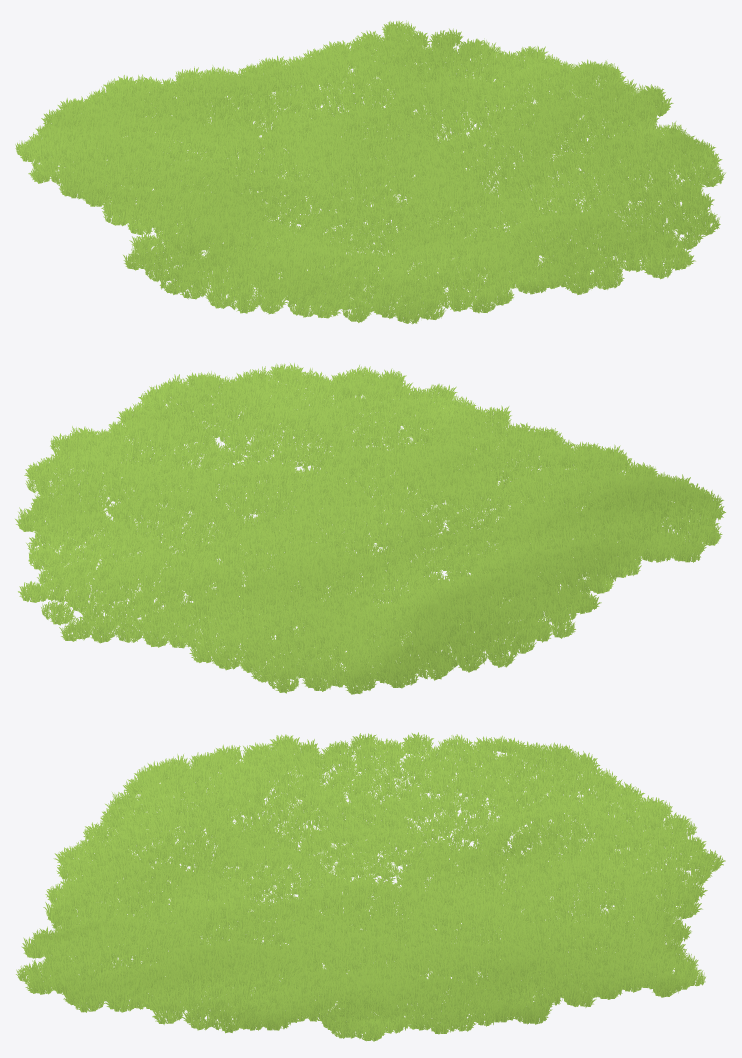
The model's file is SM_Env_Grass_Large_04.glb.
3 renders of one model, top to bottom at view 1: azimuth 30°, elevation 25°; view 2: azimuth 150°, elevation 25°; view 3: azimuth 270°, elevation 25°, orthographic. The views are drawn at different scales.
Parts seen in each view (by area): view 1: SM_Env_Grass_Large_04; view 2: SM_Env_Grass_Large_04; view 3: SM_Env_Grass_Large_04.
Part boxes in pixels (x1,y1,x2,y2): SM_Env_Grass_Large_04: [15, 20, 725, 324]; SM_Env_Grass_Large_04: [15, 363, 725, 694]; SM_Env_Grass_Large_04: [16, 732, 725, 1041].
Bounding box in the file's own units: 33.93 × 3.35 × 34.23.
Materials: 1 (1 with a texture image).
